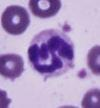N: (27, 28, 77, 77)
